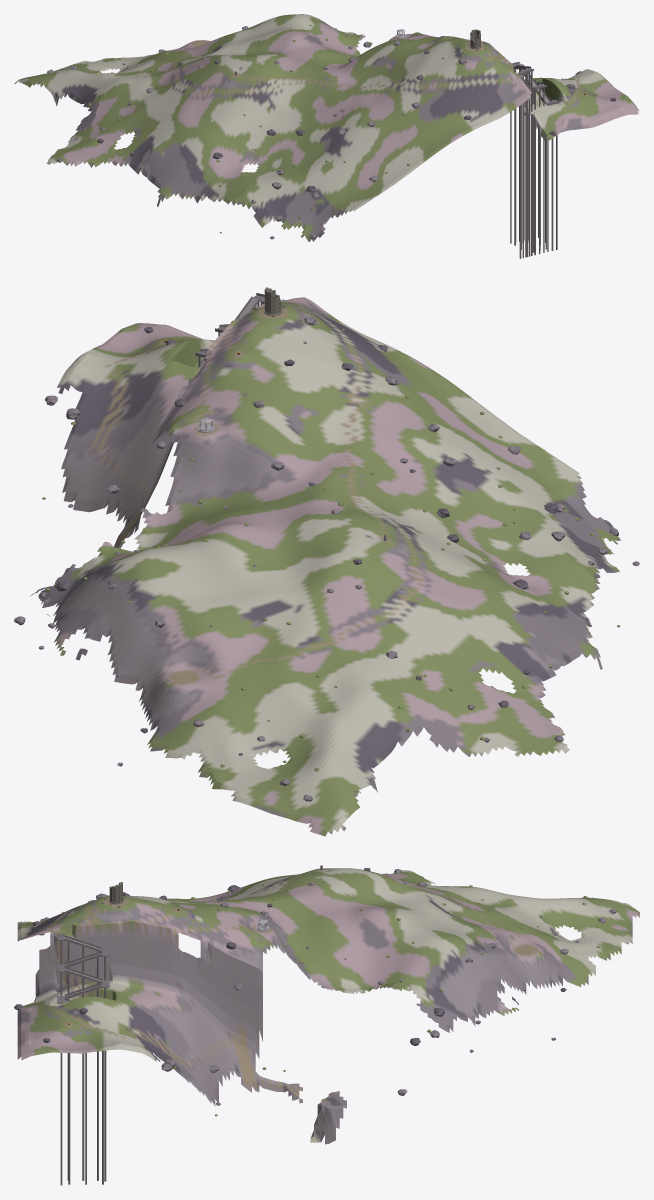
Rendered from coast_isl_saltglass.glb.
3 views of the same model, one above another, from view 1: azimuth 30°, elevation 25°; view 2: azimuth 150°, elevation 25°; view 3: azimuth 270°, elevation 25° (orthographic). The views are drawn at different scales.
Parts seen in each view (by area): view 1: geometry_0; view 2: geometry_0; view 3: geometry_0.
Boxes of the visible parts, <box> form: geometry_0: <box>14,14,639,258</box>; geometry_0: <box>14,287,639,836</box>; geometry_0: <box>14,865,639,1185</box>.
Size of the model in its own units: 343 by 161 by 342.
